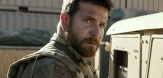male: (56, 1, 116, 59)
